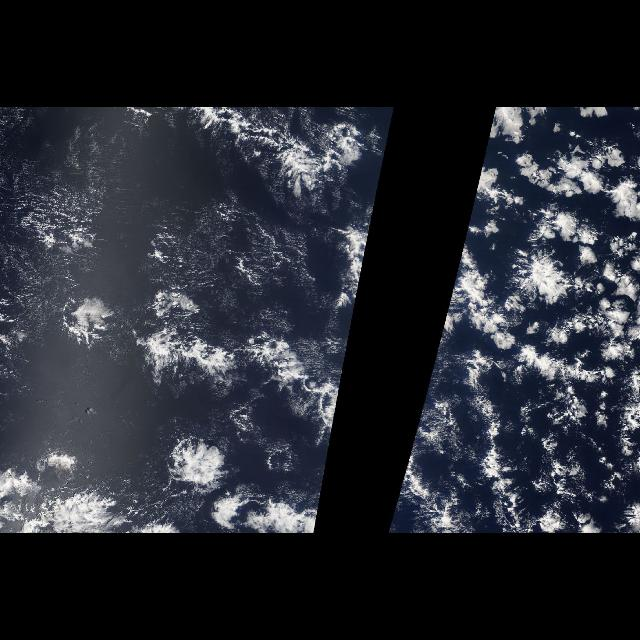Fish: (169, 109, 367, 224)
Flower: (470, 107, 640, 445), (126, 406, 314, 534)
Sugar: (2, 108, 334, 328)
